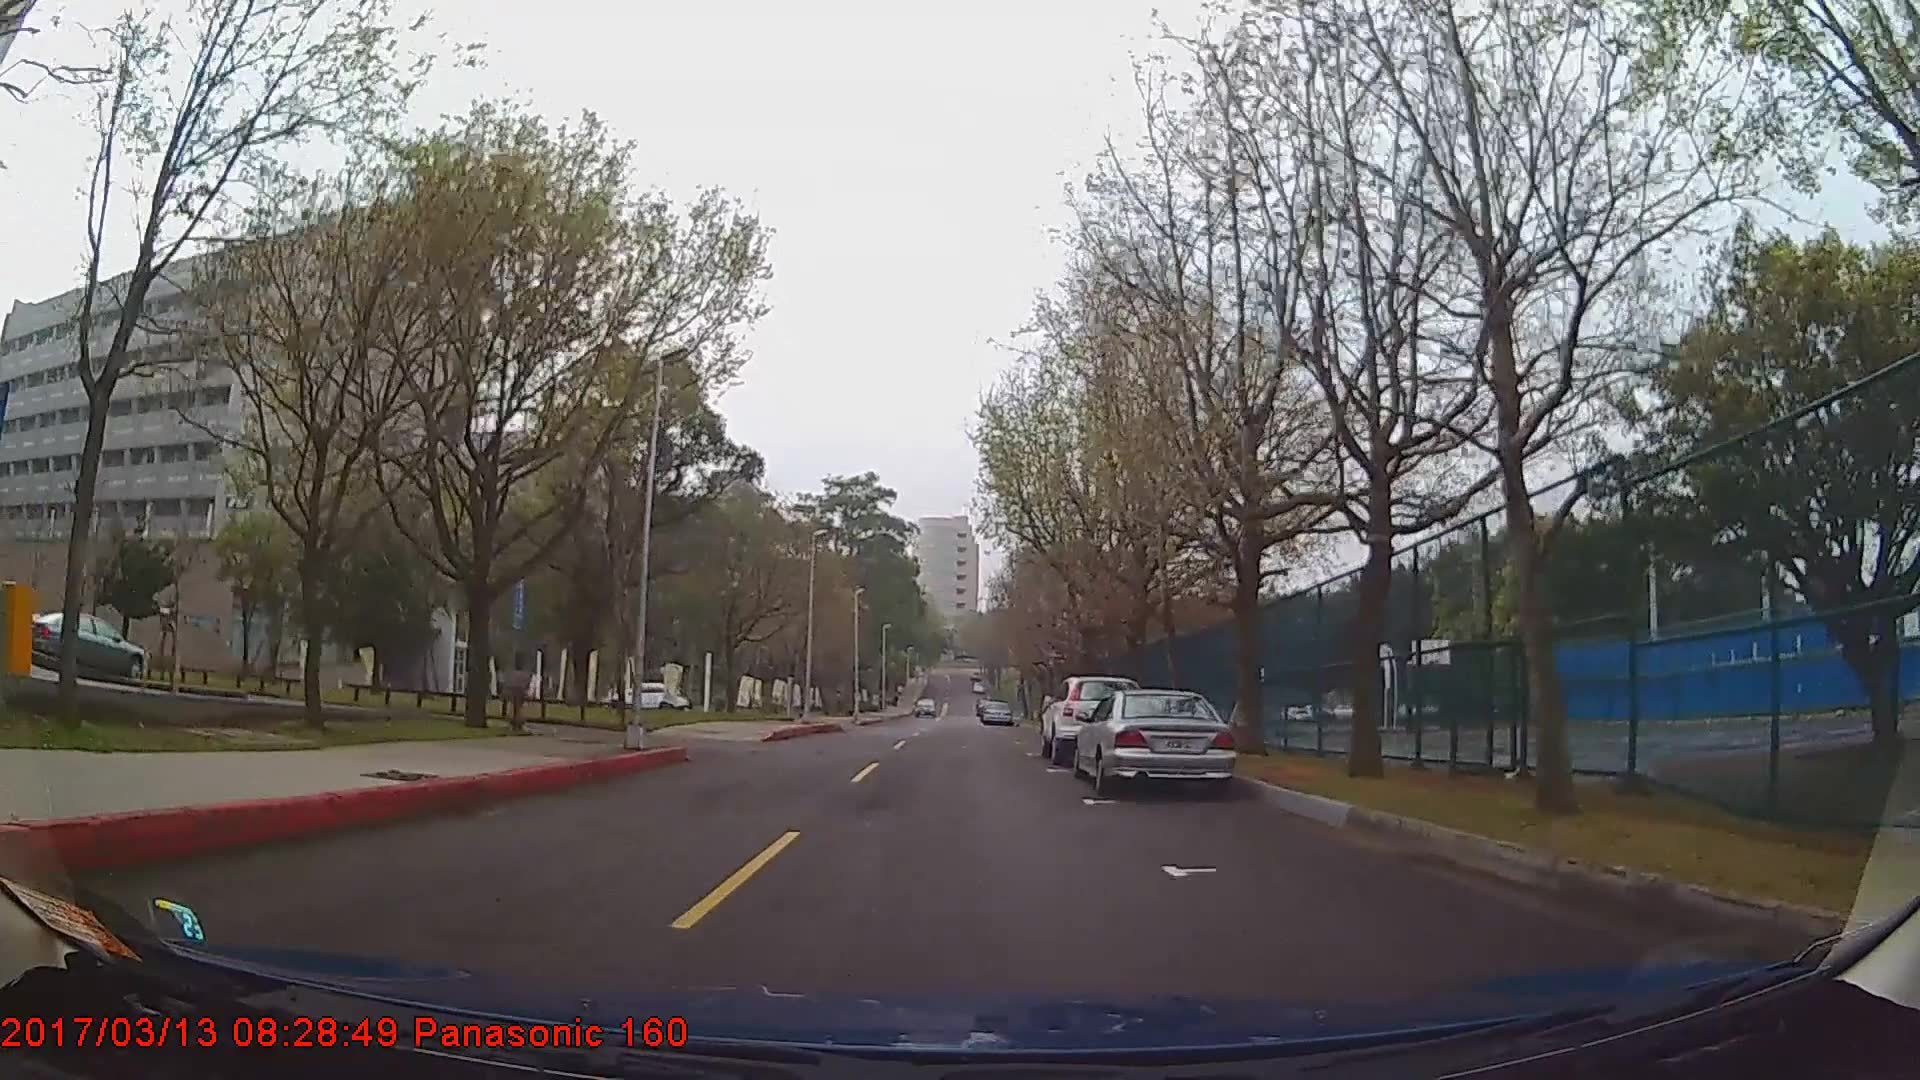vehicle: (1073, 688, 1238, 796), (20, 609, 150, 682), (1038, 674, 1138, 762), (607, 679, 690, 709), (978, 698, 1011, 727)
